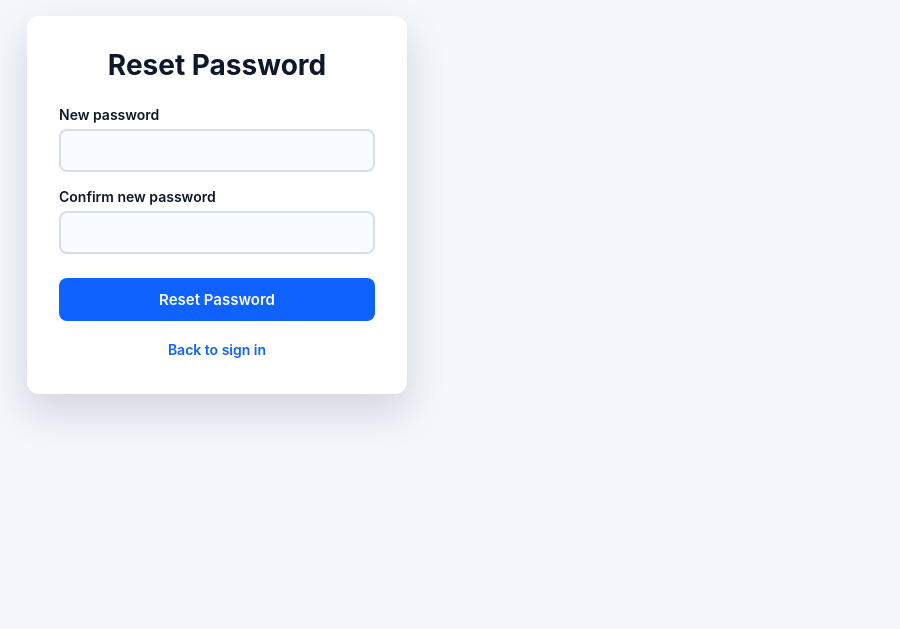
Test: ResetPasswordPage › rejects a short password client-side
In the password field labelled "New password": (217, 151) [59, 129, 375, 172], type "short"
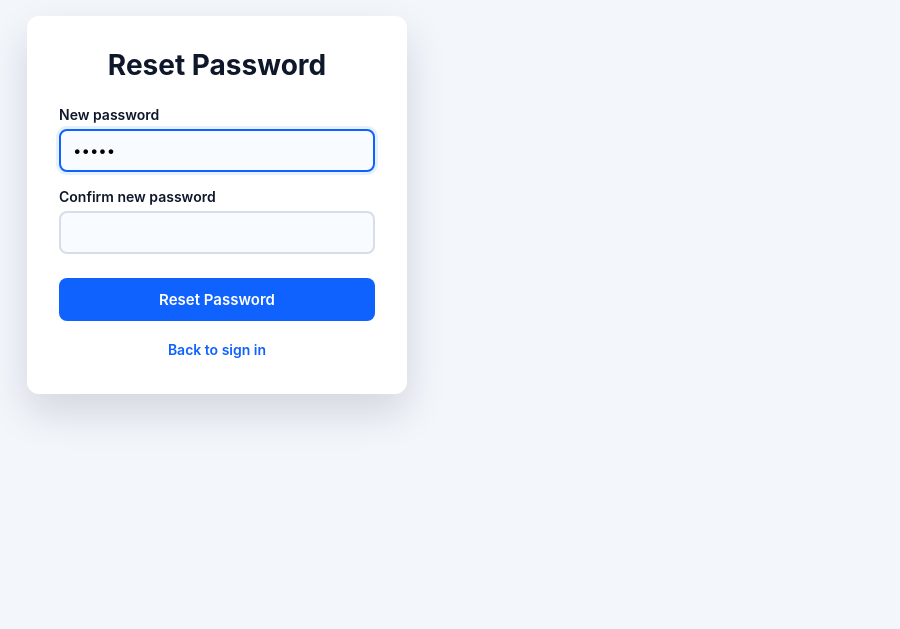
In the password field labelled "Confirm new password": (217, 233) [59, 211, 375, 254], type "short"
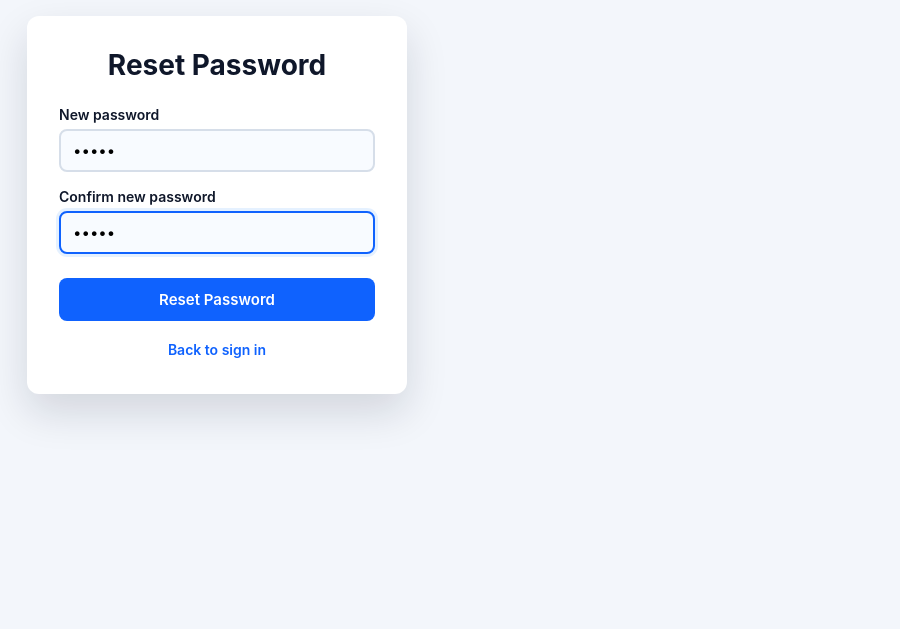
Click the button "Reset Password": (217, 300) [59, 278, 375, 321]
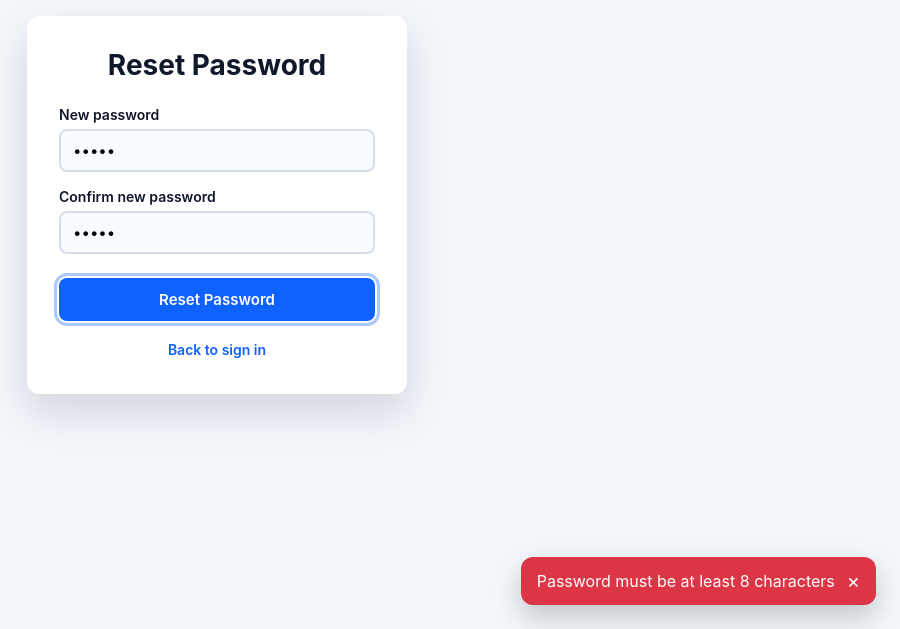
Check: the text "Password must be at least 8 characters" is shown, box [537, 571, 835, 591]
